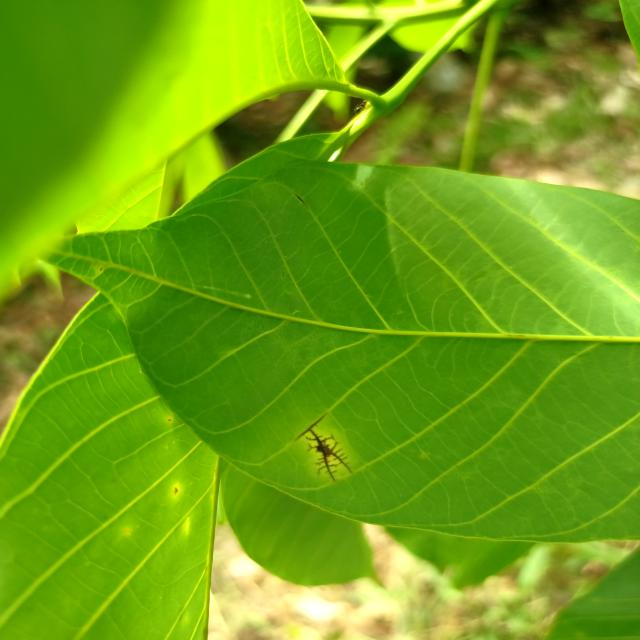Corynespora: (295, 412, 353, 481)
